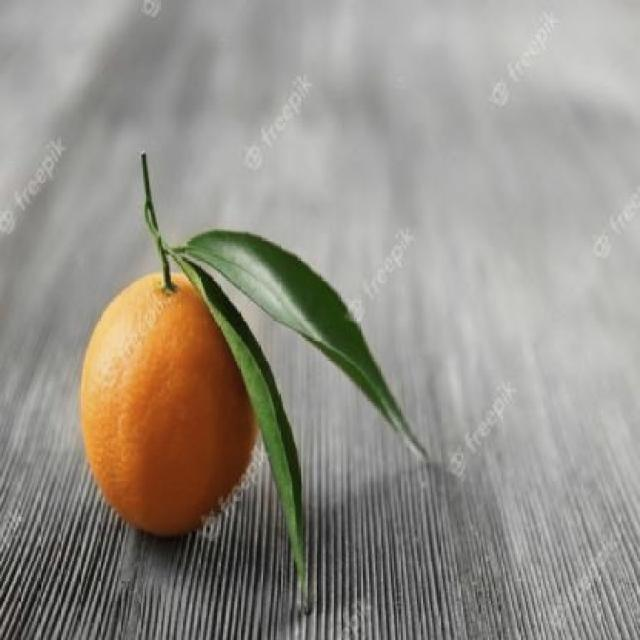Jeruk Sudah Matang: (84, 268, 266, 530)
